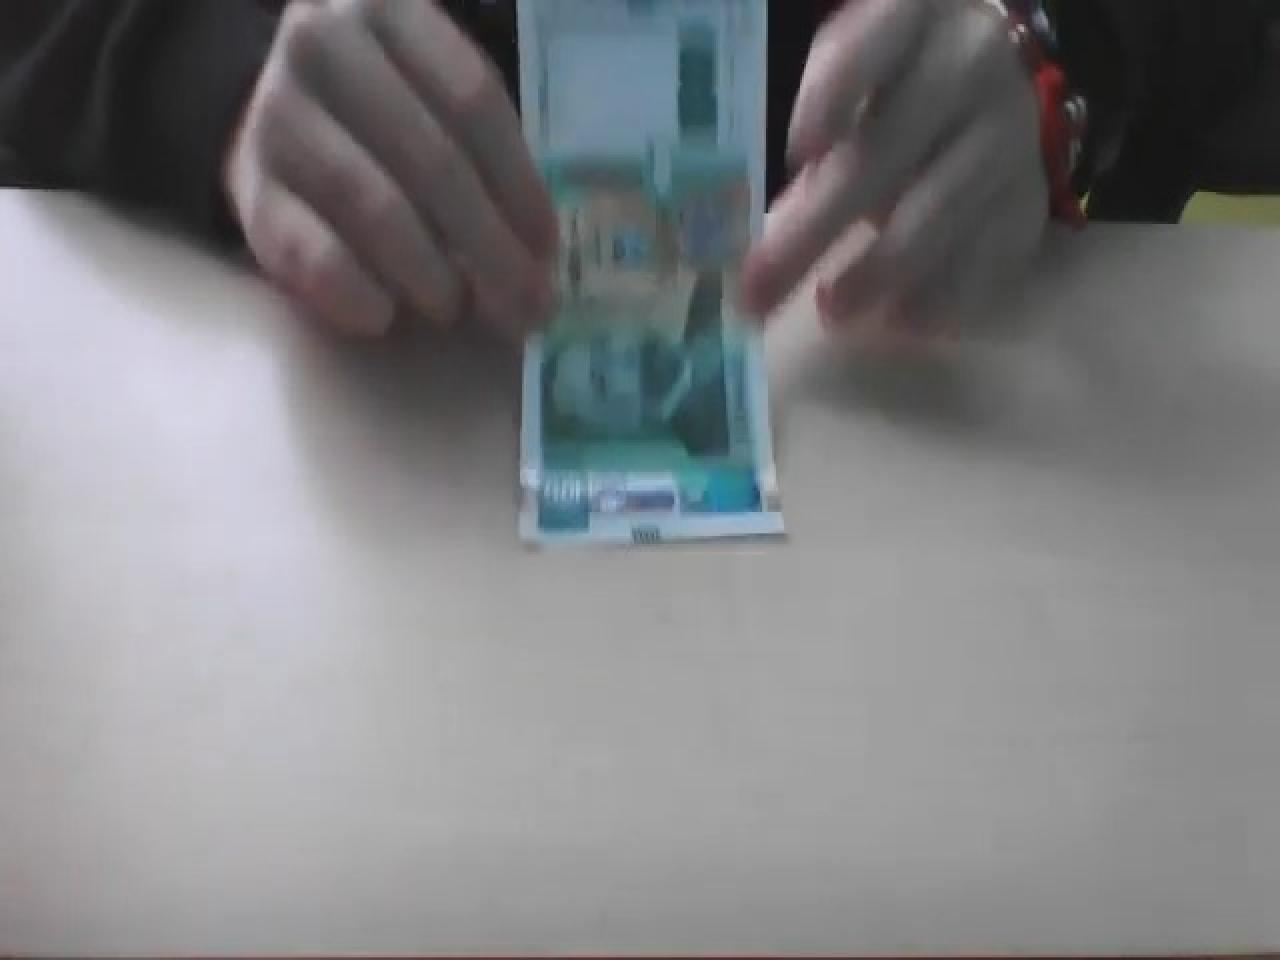100leva: (510, 0, 786, 552)
